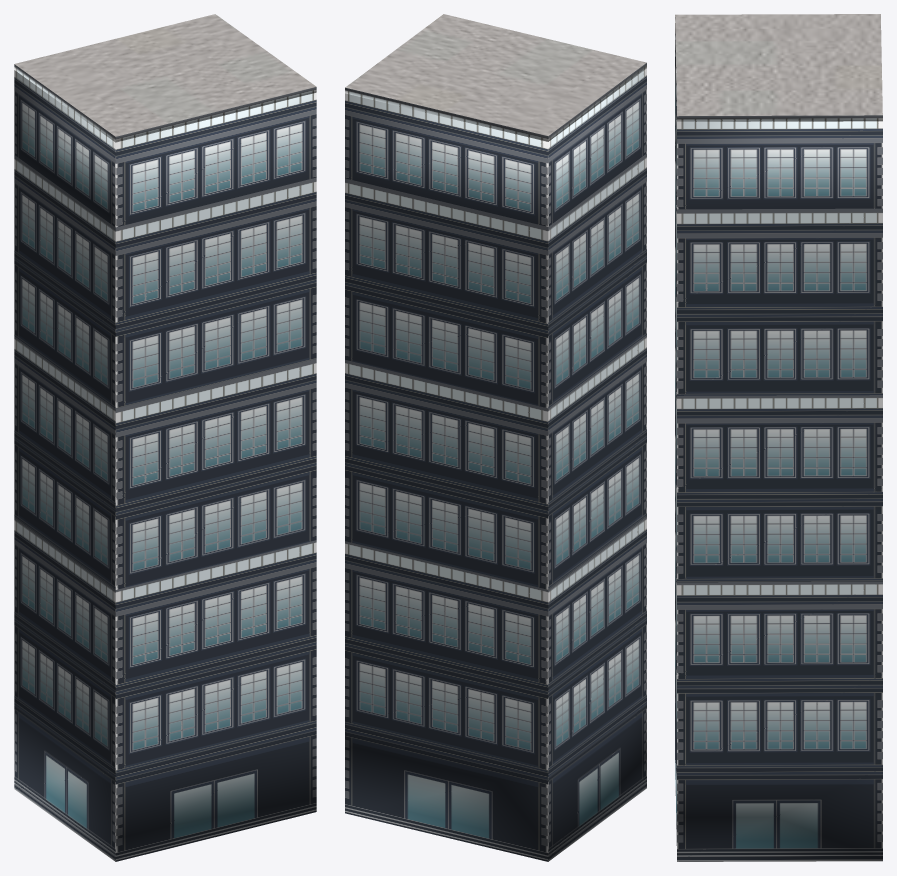
The model's file is MainBuilding_Hole.fbx.
3 views of the same model, side by side, from view 1: azimuth 30°, elevation 25°; view 2: azimuth 150°, elevation 25°; view 3: azimuth 270°, elevation 25° (orthographic). The views are drawn at different scales.
Parts seen in each view (by area): view 1: building_004.069, building_004.001; view 2: building_004.069, building_004.001; view 3: building_004.069, building_004.001.
Part boxes in pixels (<box>): building_004.069: <box>14,70,316,861</box>; building_004.001: <box>14,14,316,142</box>; building_004.069: <box>345,68,646,861</box>; building_004.001: <box>345,14,646,141</box>; building_004.069: <box>675,23,882,861</box>; building_004.001: <box>675,14,882,121</box>.
Size of the model in its own units: 1410 by 4800 by 1212.
Materials: 2 (2 with a texture image).
